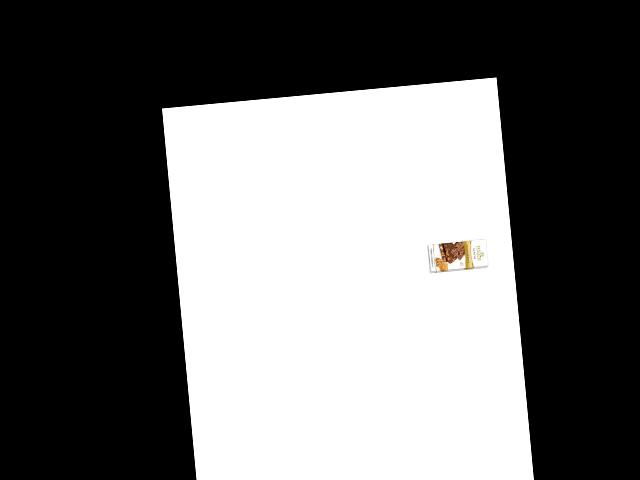chocolate: (425, 238, 491, 274)
